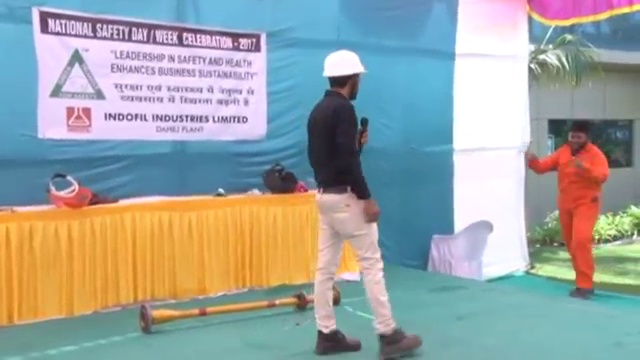helmet: (322, 48, 369, 80)
helmet_off: (564, 121, 592, 153)
helmet_on: (320, 48, 369, 102)
person: (305, 47, 424, 354), (525, 121, 609, 299)
